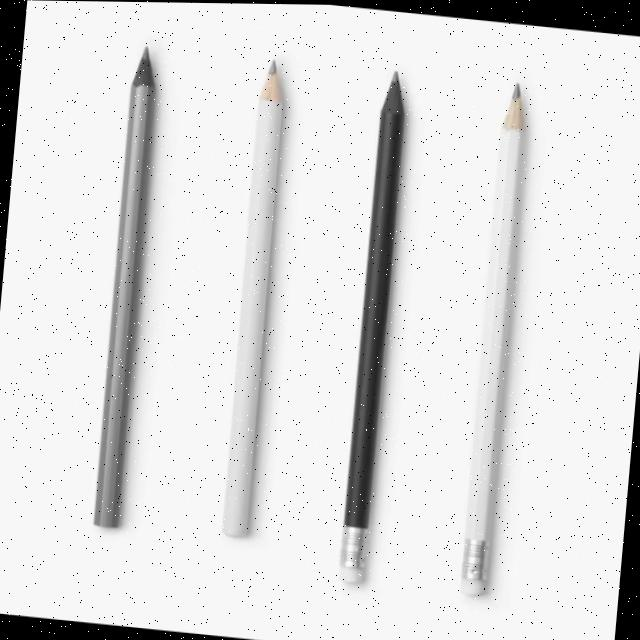pencil: (449, 68, 542, 605), (331, 59, 416, 591), (210, 48, 299, 542), (80, 35, 168, 534)
